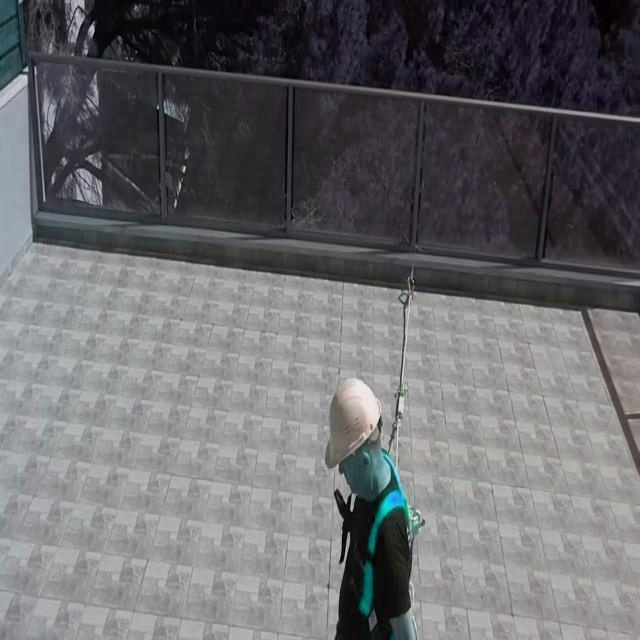safety belt: (339, 476, 427, 620)
